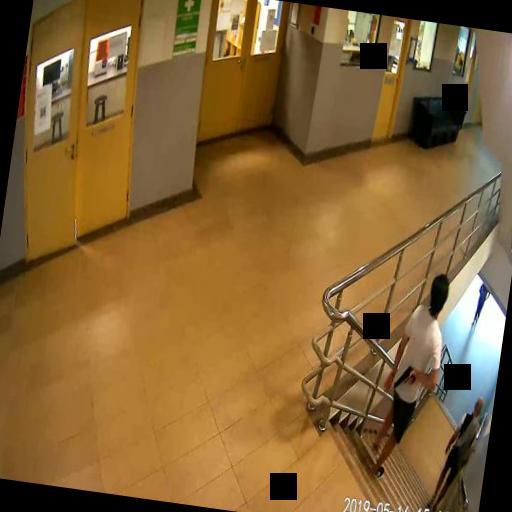Handgun: (392, 361, 416, 389)
